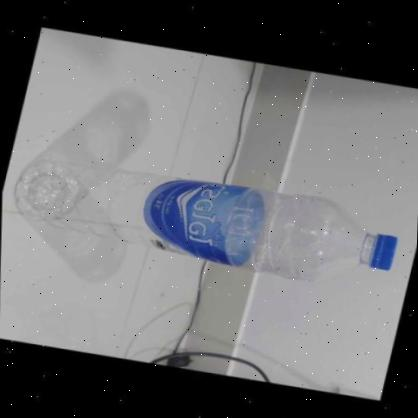bottle: (12, 156, 400, 282)
cap: (369, 230, 397, 273)
label: (141, 180, 262, 269)
